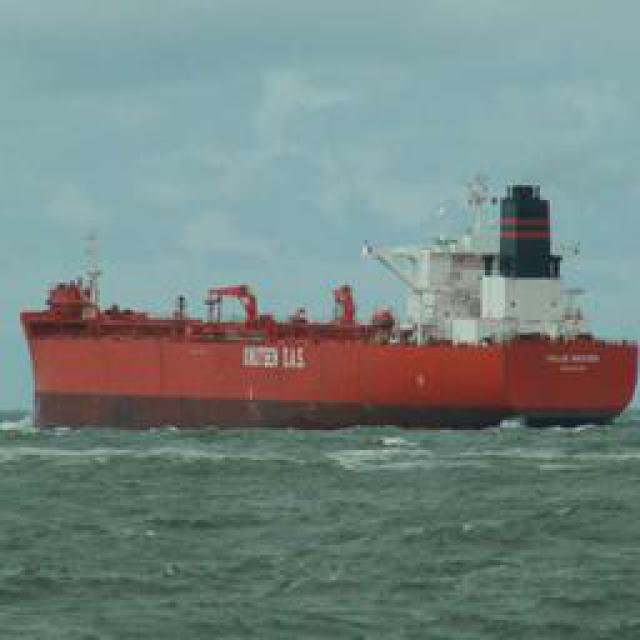Ship: (20, 238, 638, 436)
